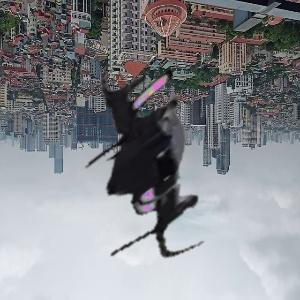drone: (36, 47, 257, 268)
